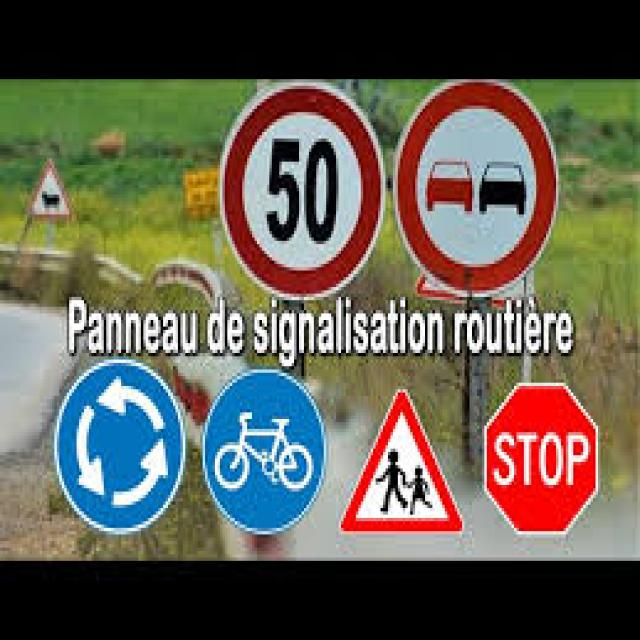speed_50: (218, 82, 387, 300)
